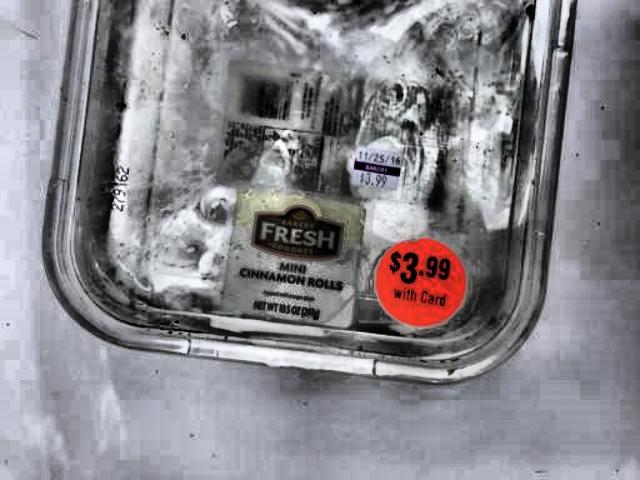Plastic: (22, 2, 580, 391)
